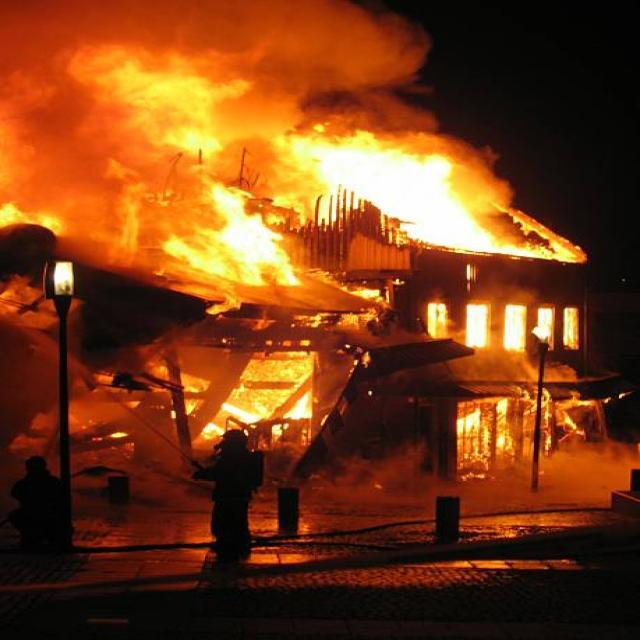Fire: (328, 119, 544, 281), (414, 294, 640, 411), (154, 174, 340, 316), (201, 326, 335, 412)
Smoke: (4, 0, 554, 281)
